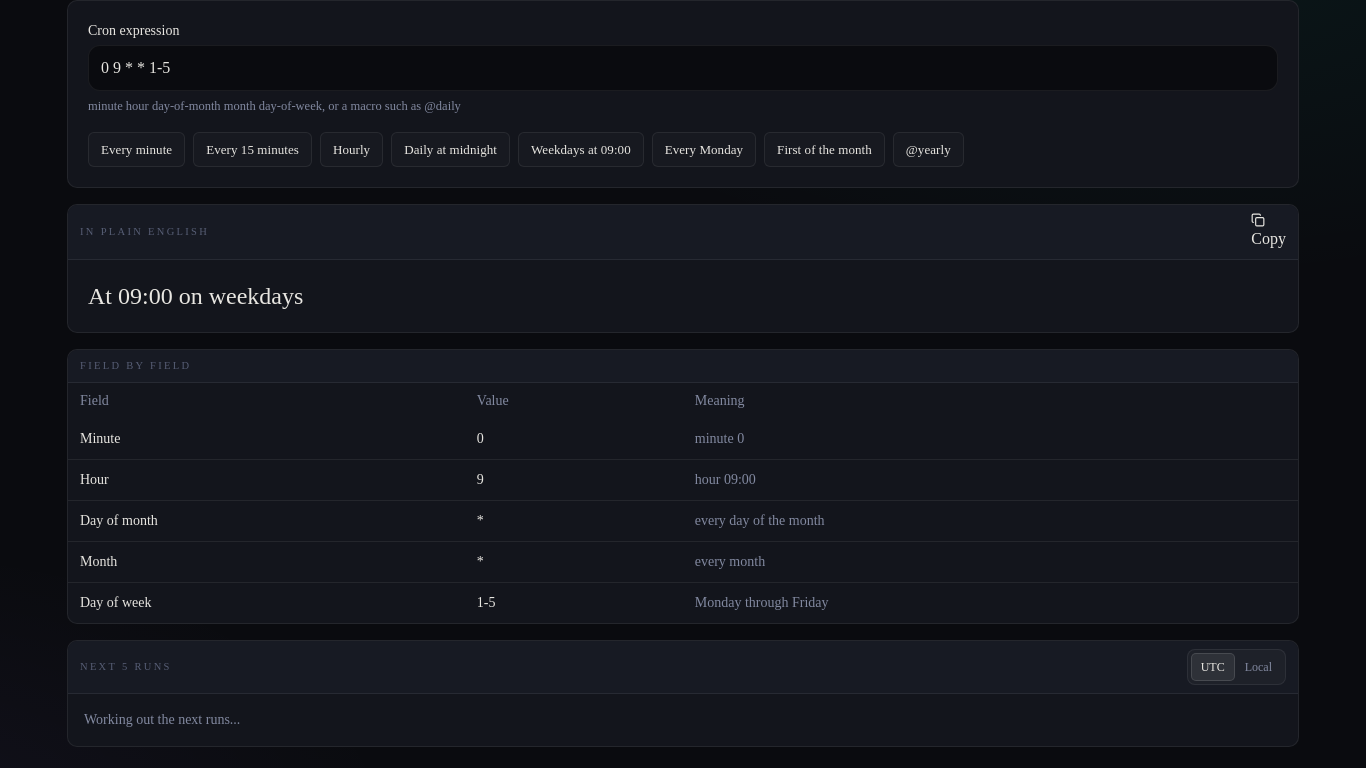
Test: CronExplainerClient › time zone › starts on UTC and switches to local time
The image size is (1366, 768).
Click the button "Local" at (1258, 667), box x1=1235 y1=653 x2=1282 y2=681
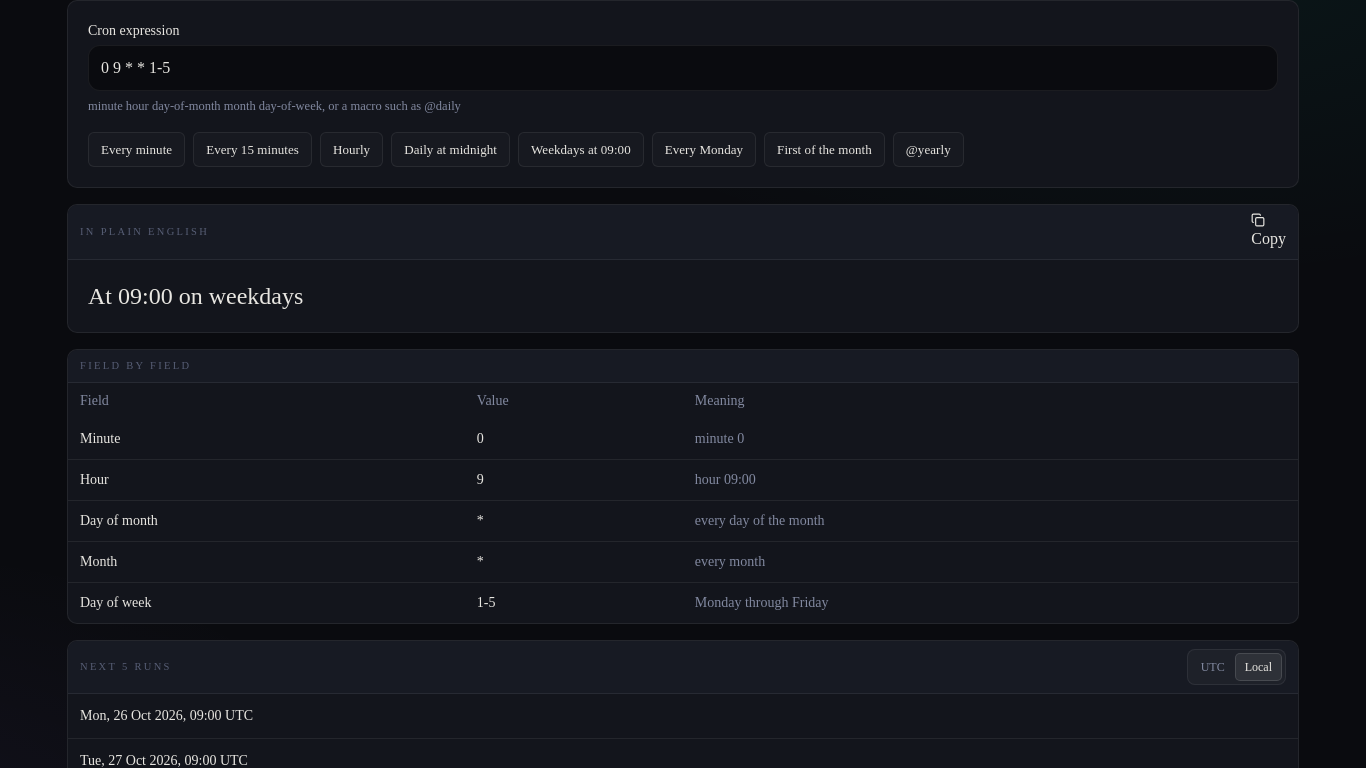
Now the number of list items is 5
